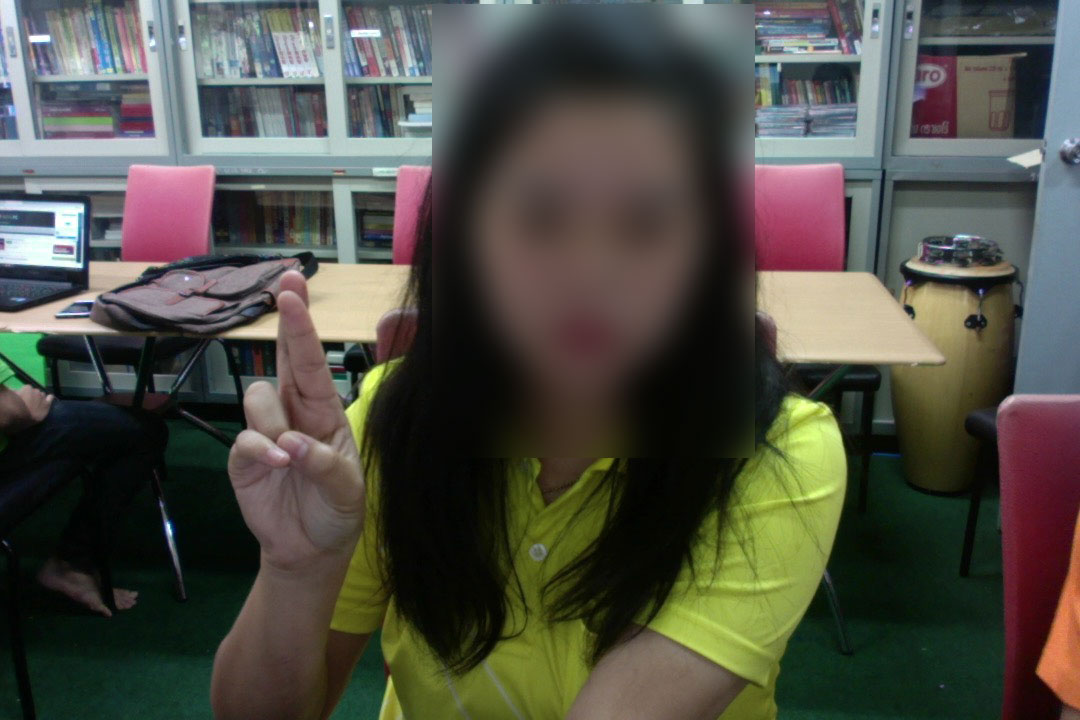rao: (224, 269, 379, 571)
